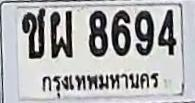4: (157, 8, 176, 56)
6: (111, 9, 130, 55)
8: (88, 10, 107, 56)
9: (134, 10, 153, 55)
A10: (21, 7, 45, 58)
A28: (50, 10, 72, 57)
BKK: (36, 70, 161, 99)
